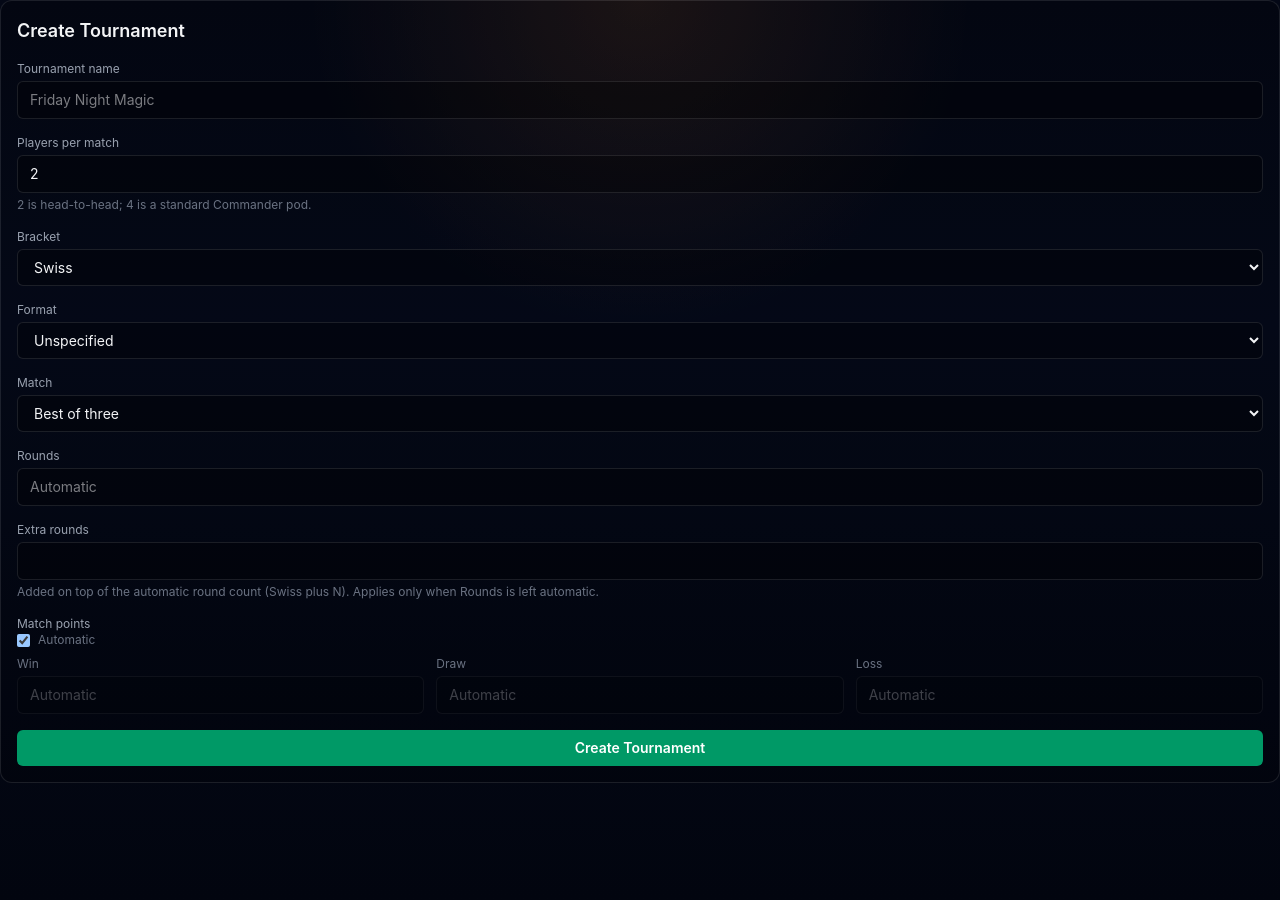
Test case: CreateTournamentForm › disables the scoring inputs while automatic
Expected: the number field labelled "Win" is disabled, [17,676,424,714]
What coordinates should you click on to do the following:
click the checkbox labelled "Automatic"
I would click on:
 (24, 640)
Its box is [17,634,30,646].
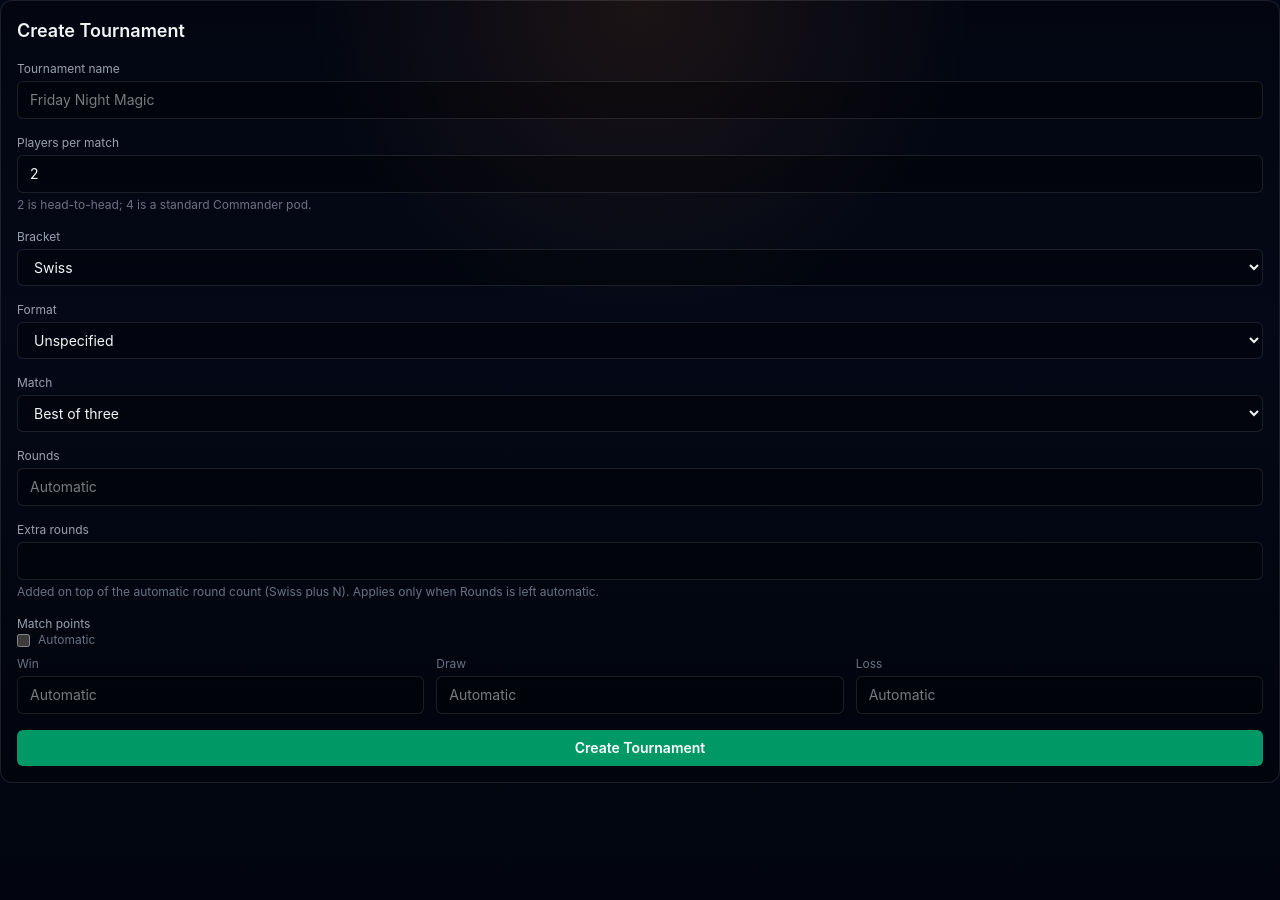
Result: the number field labelled "Win" is enabled at [17,676,424,714]
